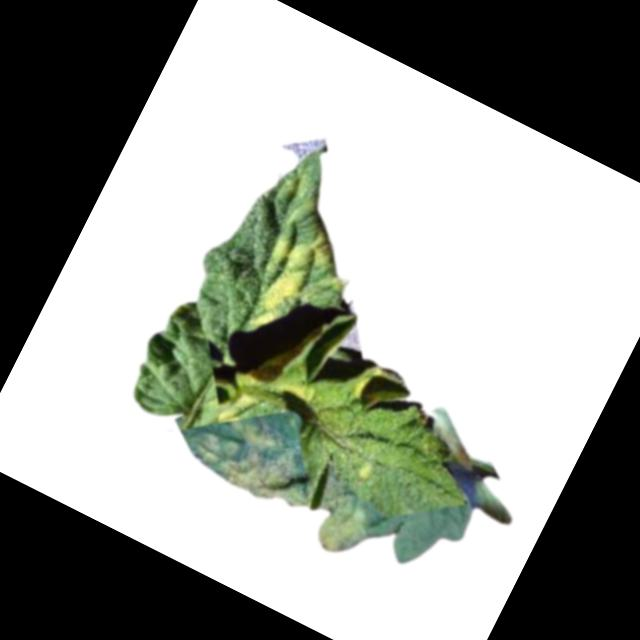Leaf_Mold: (181, 405, 388, 562), (233, 212, 342, 342), (215, 327, 325, 451), (345, 356, 418, 424), (352, 451, 383, 485)
